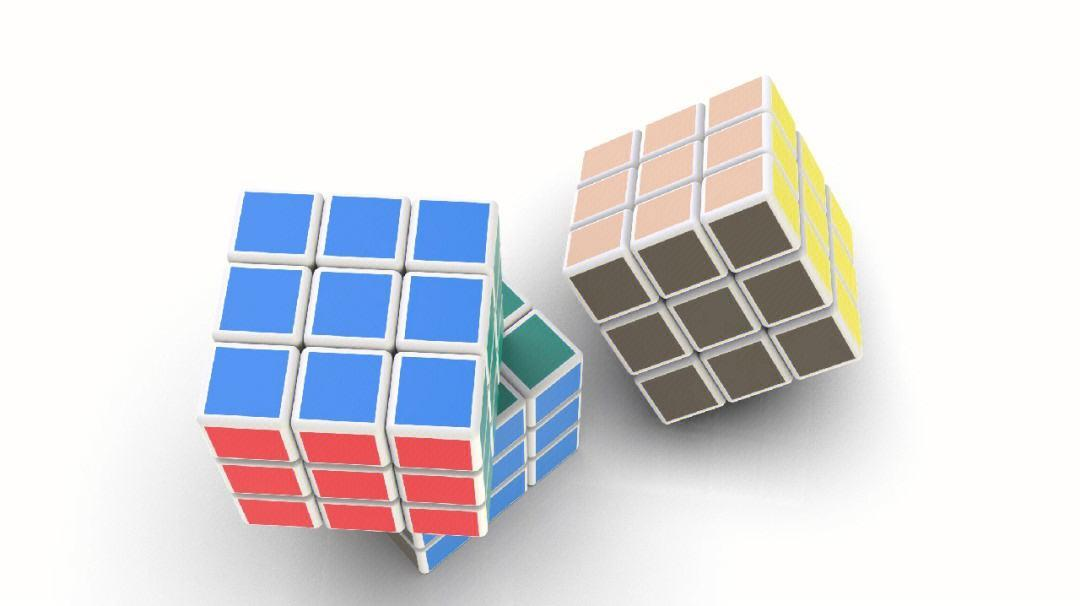cube: (173, 135, 656, 591), (561, 54, 896, 450)
